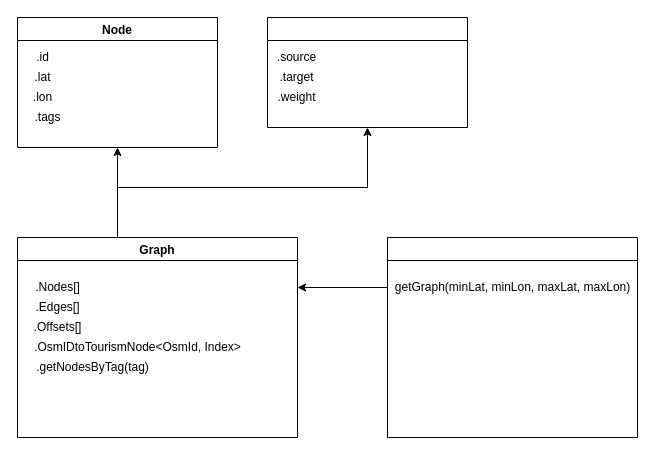
Some shapes in this 655 by 455 pixel diagram are drawn without their labels. Here are the shapes that lost their labels. From the top down, the box of each, then its label:
(266, 16, 468, 128): Edge
(386, 236, 638, 438): DatenApi
